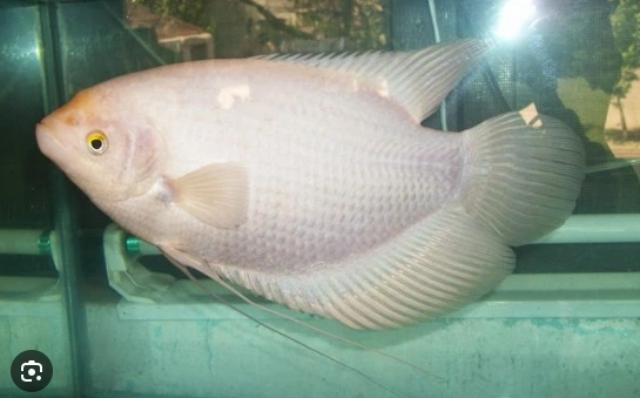Mulut: (22, 86, 86, 186)
Sirip Anal: (208, 203, 534, 345)
Sirip Dada: (148, 150, 262, 240)
Sirip Ekor: (434, 100, 598, 264)
Sirip Punggung: (237, 34, 498, 148)
